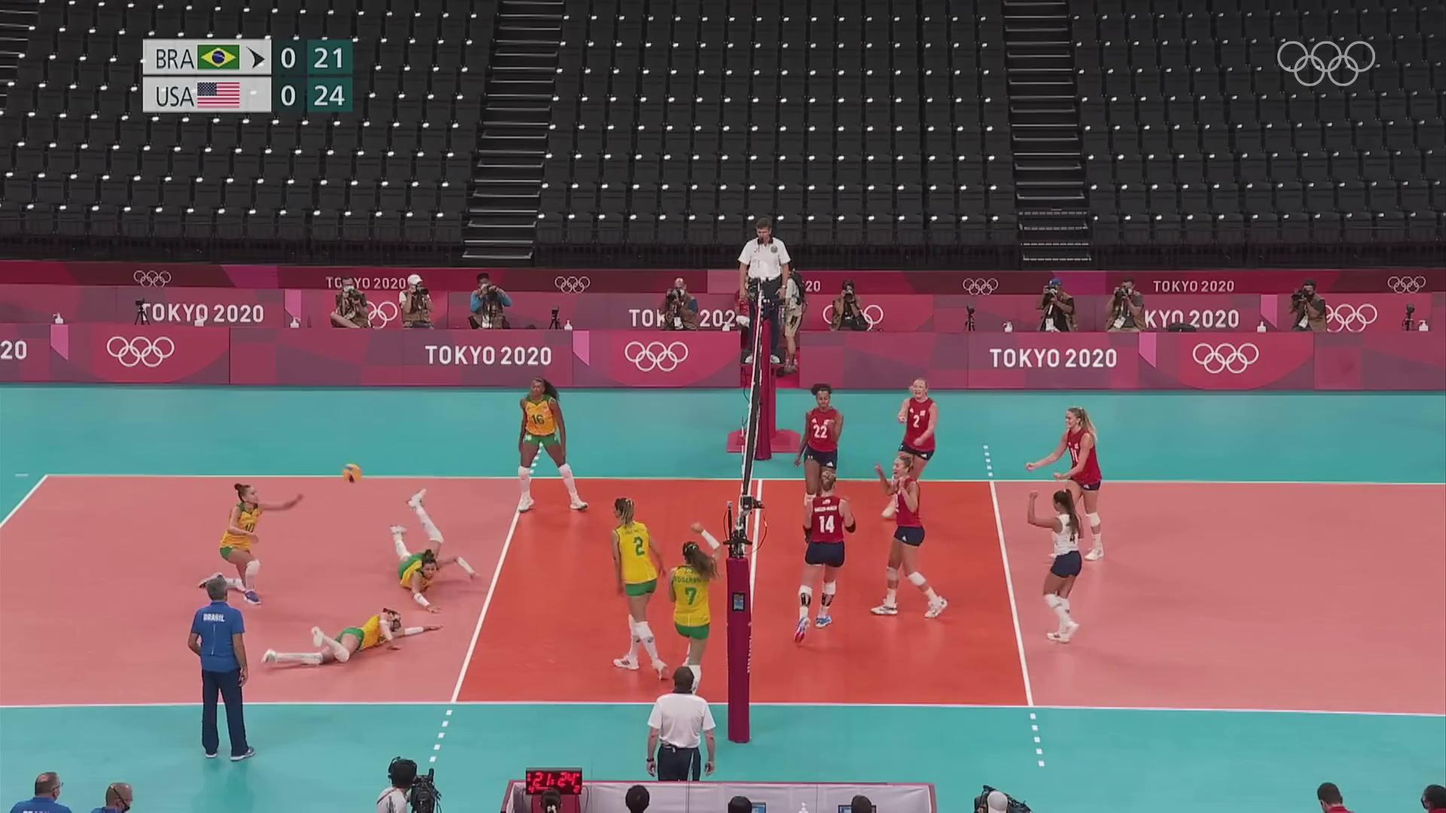player: (1027, 405, 1110, 561), (605, 495, 672, 681), (873, 452, 946, 620), (200, 486, 303, 604), (387, 486, 482, 611), (261, 608, 442, 671), (667, 519, 723, 709), (794, 471, 855, 645), (1026, 486, 1086, 645), (513, 376, 584, 510), (794, 386, 845, 549), (883, 379, 941, 522)
refree: (643, 668, 717, 791), (739, 218, 792, 365)
